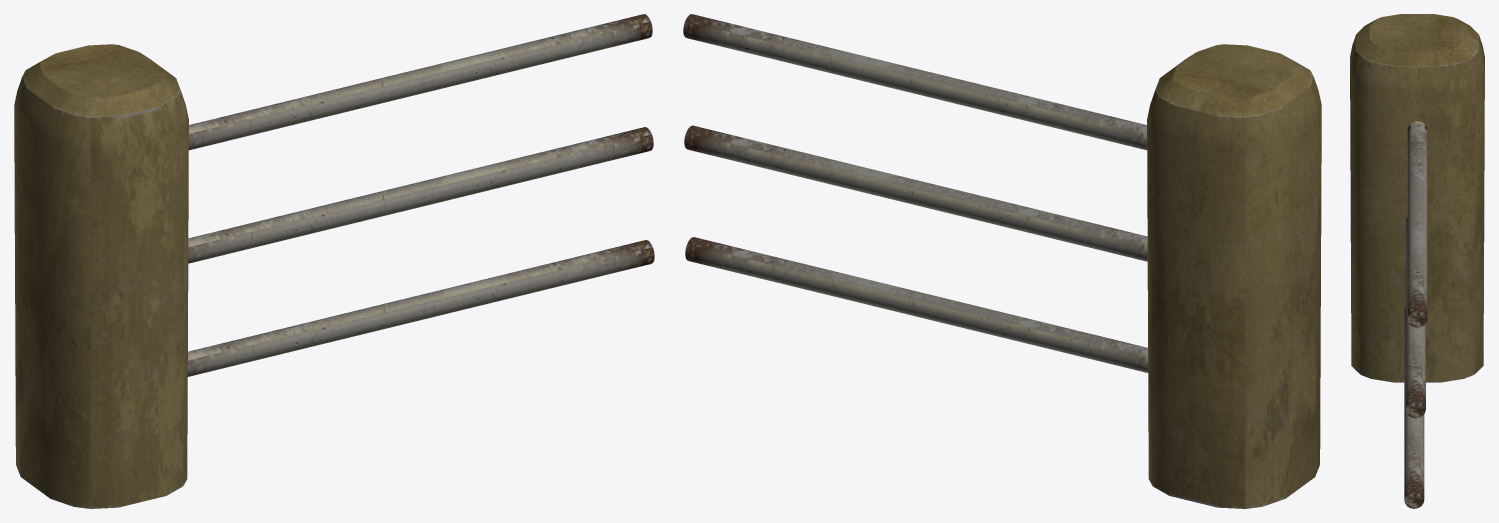
Rendered from Fence Straight concrete part2.fbx.
3 views of the same model, side by side, from view 1: azimuth 30°, elevation 25°; view 2: azimuth 150°, elevation 25°; view 3: azimuth 270°, elevation 25° (orthographic). The views are drawn at different scales.
Visible parts, largest first — view 1: Cerca de concreto reta 2; view 2: Cerca de concreto reta 2; view 3: Cerca de concreto reta 2.
Boxes of the visible parts, left/top/right/bottom form: Cerca de concreto reta 2: left=14, top=14, right=654, bottom=508; Cerca de concreto reta 2: left=683, top=14, right=1321, bottom=508; Cerca de concreto reta 2: left=1350, top=14, right=1484, bottom=508.
Size of the model in its own units: 131 by 81.95 by 30.95.
